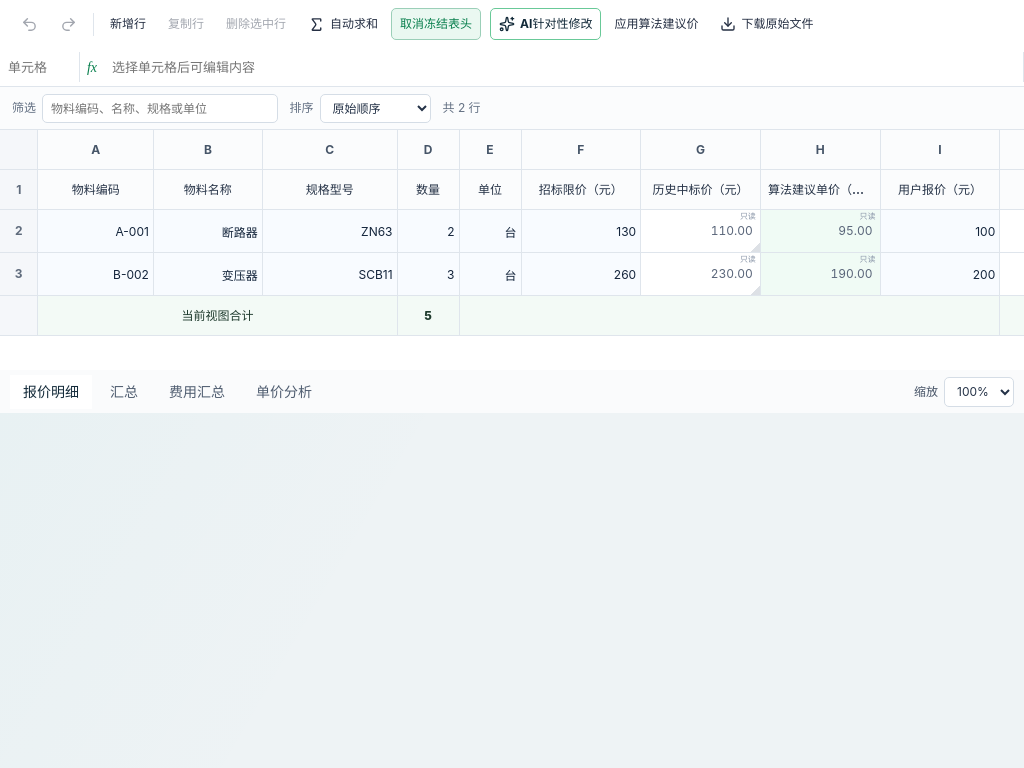
SpreadsheetMockEditor › requires confirmation before applying suggested prices and makes the batch change undoable
Click the cell named "断路器算法建议单价（元）" at (821, 232), box [761, 210, 881, 253]
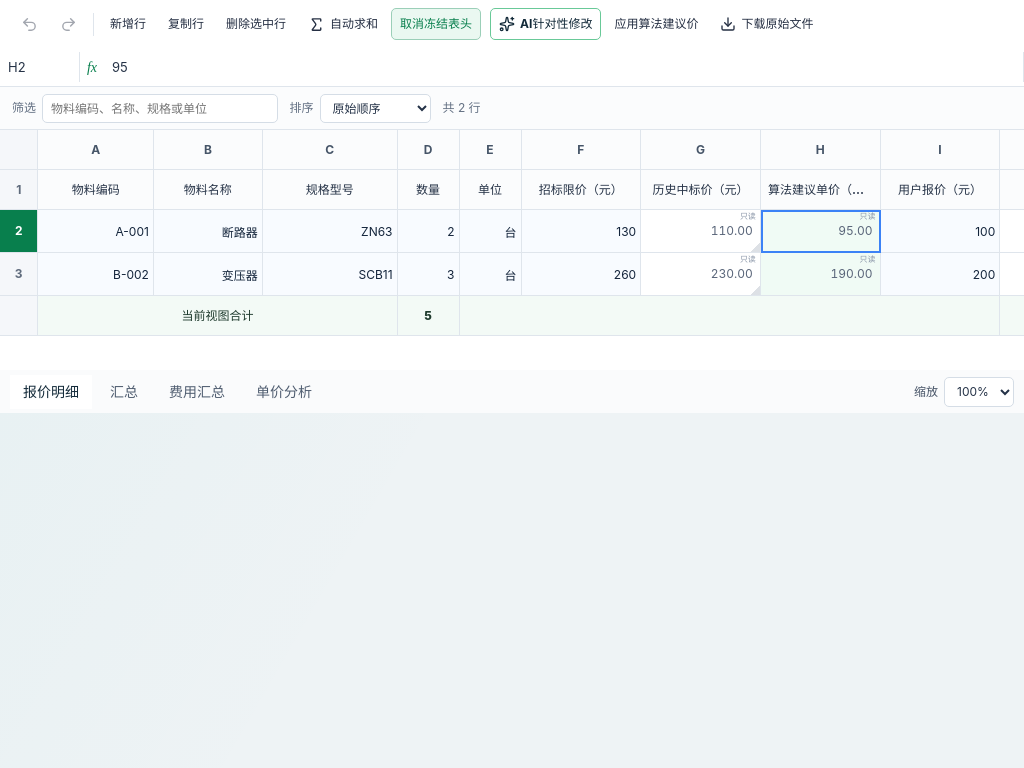
Check: the field named "名称框" holds "H2", box [0, 52, 80, 82]
Check: the field named "公式栏" holds "95", box [104, 52, 1023, 82]
Click the button "应用算法建议价" at (656, 24), box [605, 8, 707, 40]
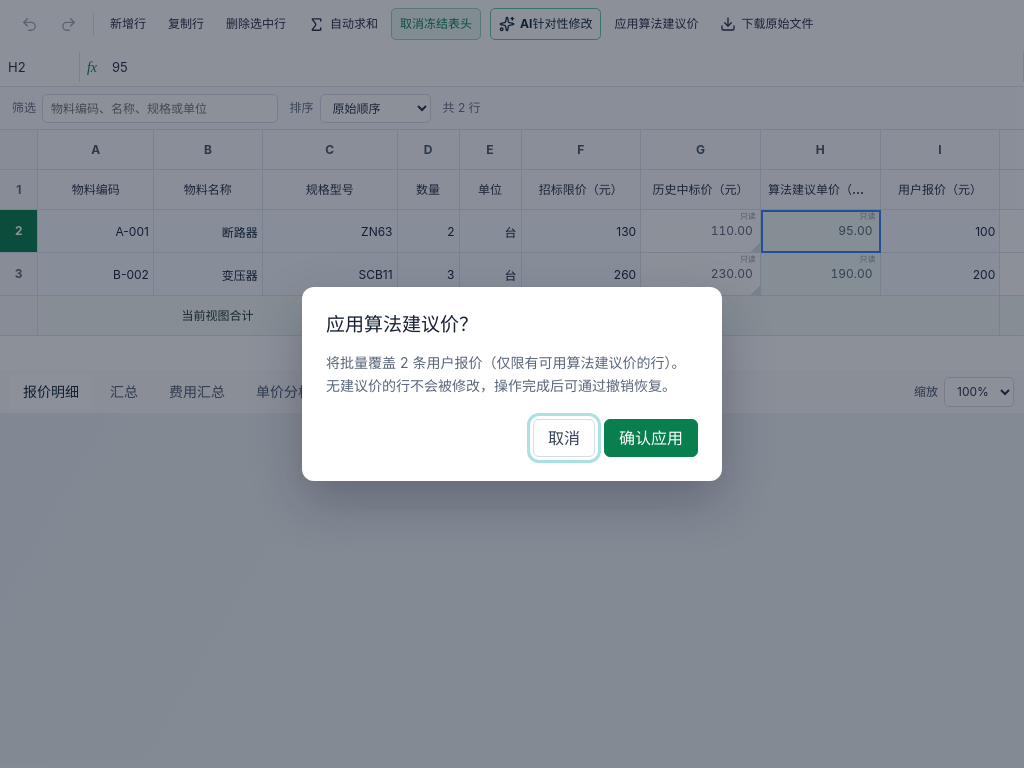
Check: the number field named "断路器用户报价" holds "100", box [881, 210, 999, 252]
Check: the dialog "应用算法建议价？" shows "批量覆盖 2 条用户报价"
Press Escape in the dialog "应用算法建议价？", box [302, 287, 722, 481]
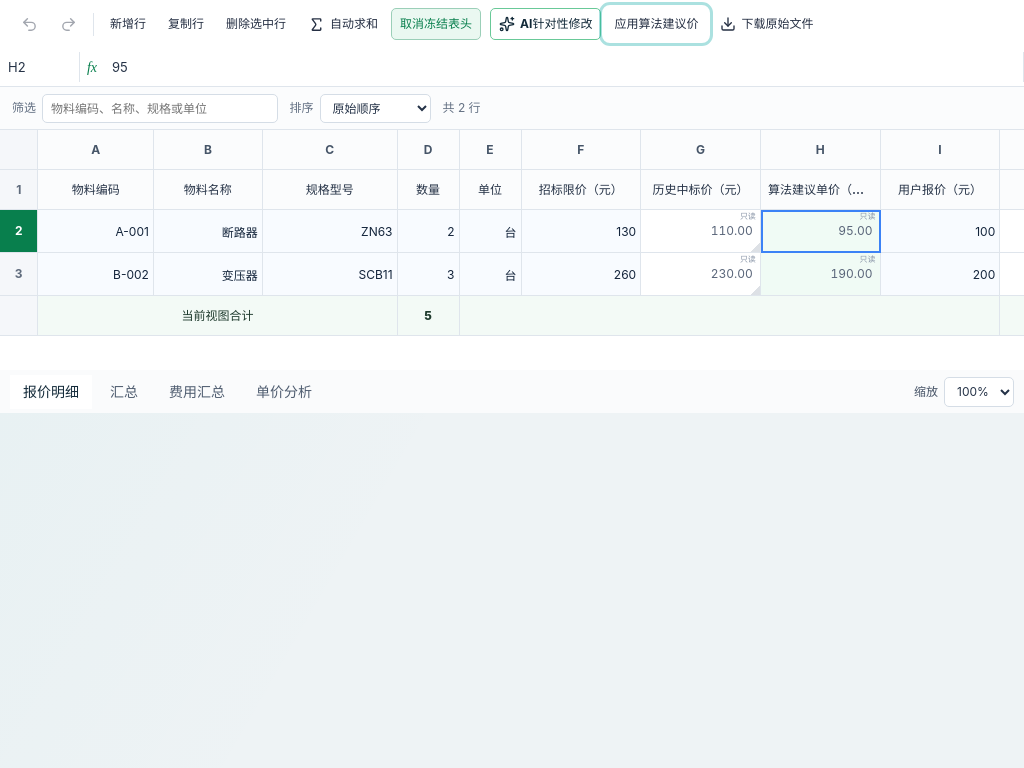
Check: the heading "应用算法建议价？" is gone
Click the button "应用算法建议价" at (656, 24), box [605, 8, 707, 40]
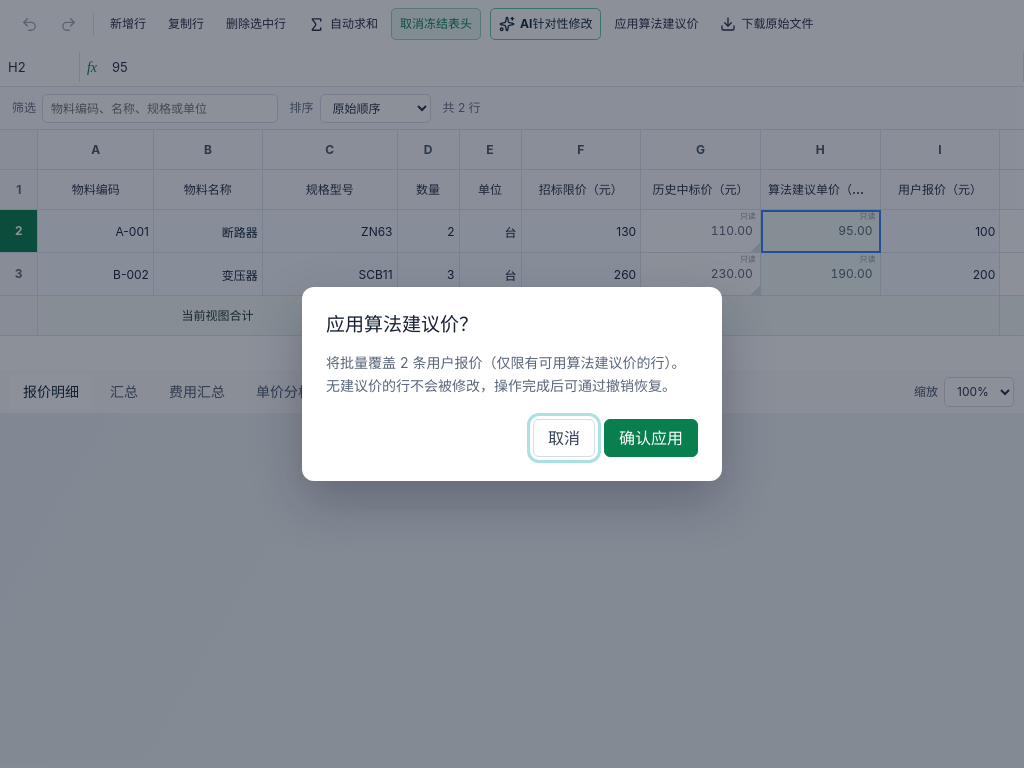
Click the button "确认应用" at (651, 438), box [604, 419, 698, 457]
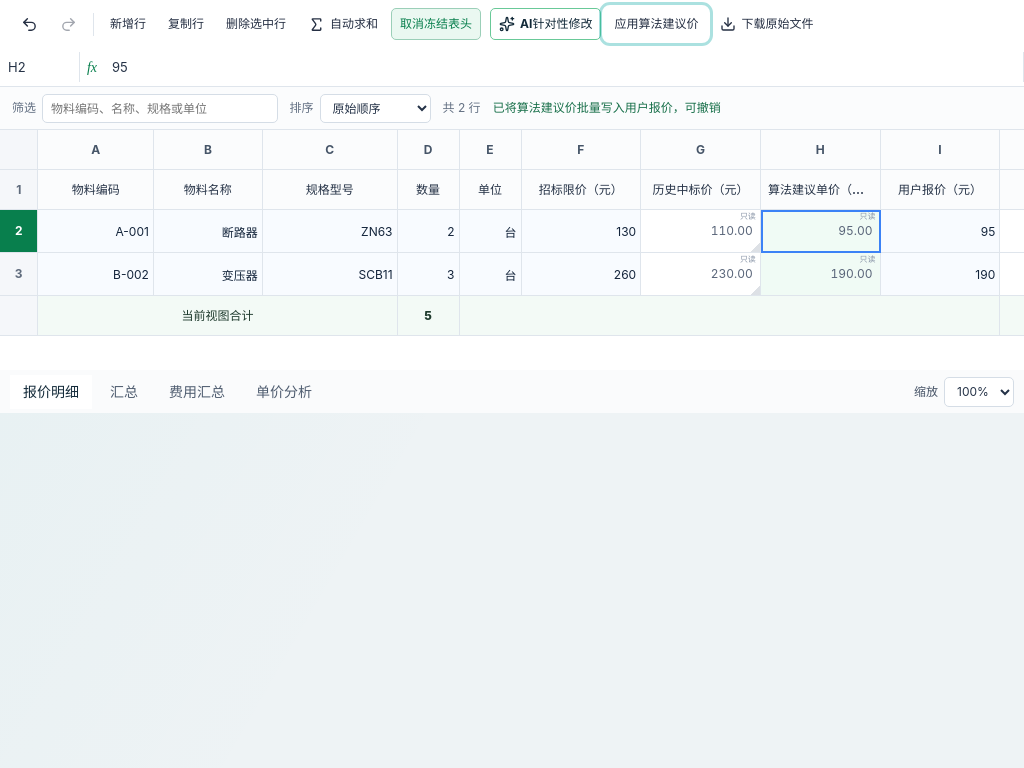
Check: the number field named "断路器用户报价" holds "95", box [881, 210, 999, 252]
Check: the number field named "变压器用户报价" holds "190", box [881, 253, 999, 295]
Click the button named "撤销" at (30, 24), box [12, 8, 47, 40]
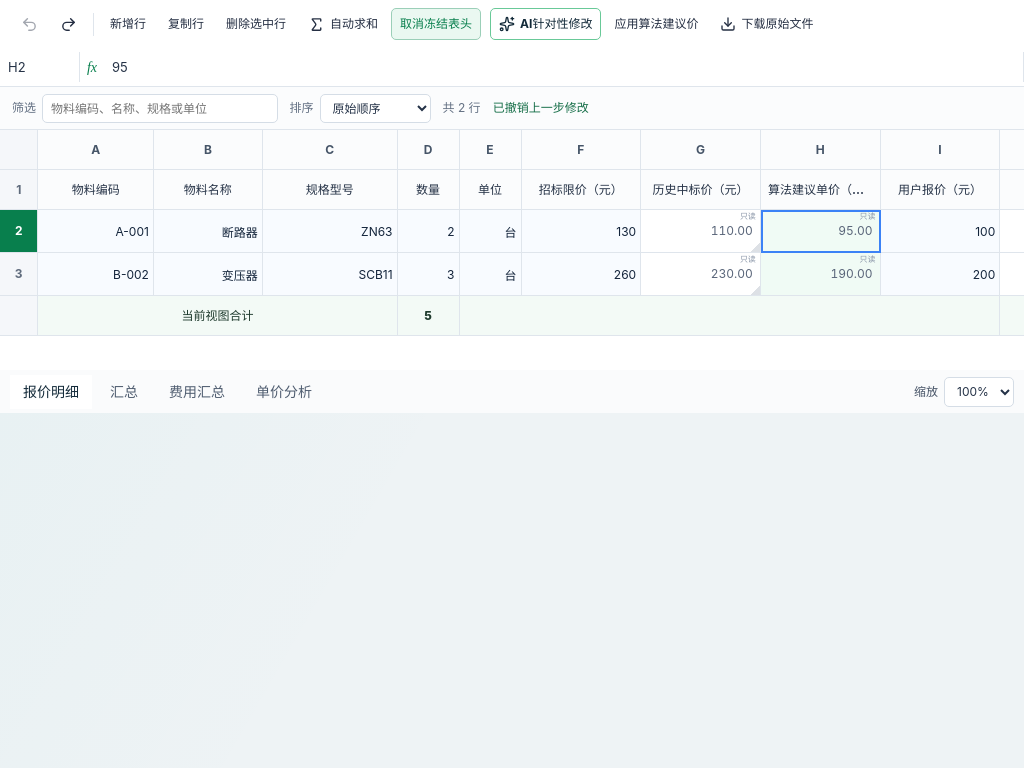
Check: the number field named "断路器用户报价" holds "100", box [881, 210, 999, 252]
Check: the number field named "变压器用户报价" holds "200", box [881, 253, 999, 295]
